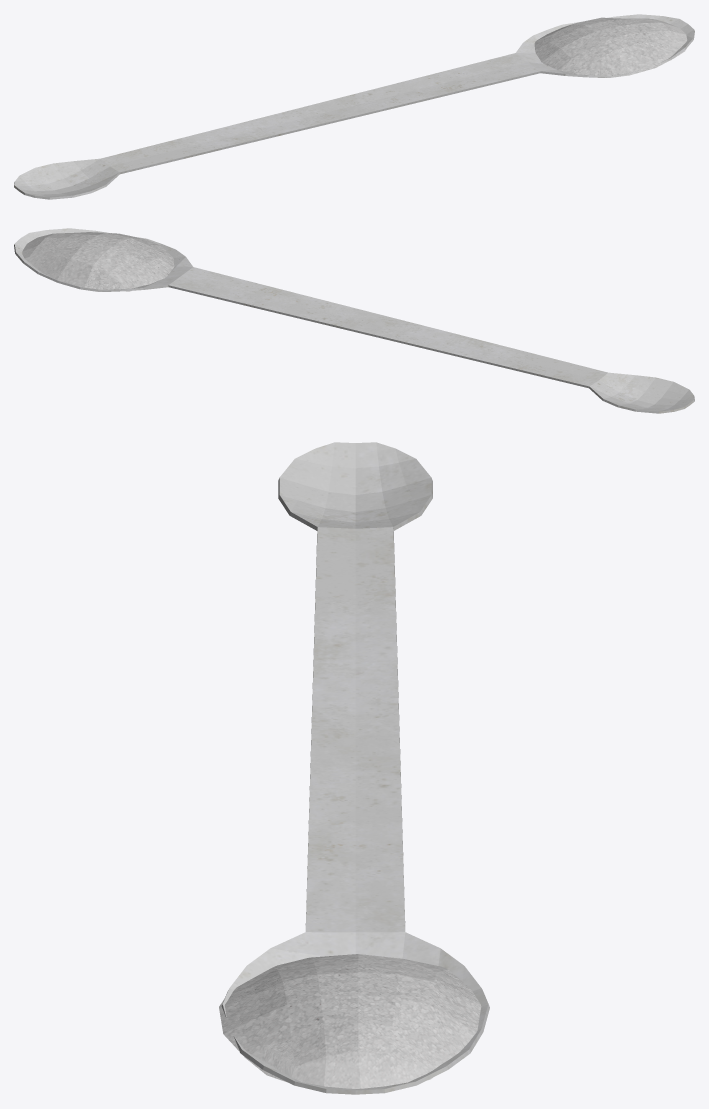
The picture shows the model from 3 angles, top to bottom: view 1: azimuth 30°, elevation 25°; view 2: azimuth 150°, elevation 25°; view 3: azimuth 270°, elevation 25°; orthographic projection. The views are drawn at different scales.
Visible parts, largest first — view 1: SM_勺子, SM_粉末001; view 2: SM_勺子, SM_粉末001; view 3: SM_勺子, SM_粉末001.
Part boxes in pixels (x1,y1,x2,y2): SM_勺子: [14, 14, 694, 199]; SM_粉末001: [534, 17, 687, 77]; SM_勺子: [14, 228, 694, 413]; SM_粉末001: [22, 232, 174, 291]; SM_勺子: [221, 442, 489, 1094]; SM_粉末001: [219, 954, 481, 1088].
Bounding box in the file's own units: 0.121 × 0.00615 × 0.0212.
